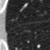node: (36, 43, 41, 49), (26, 39, 31, 44)
